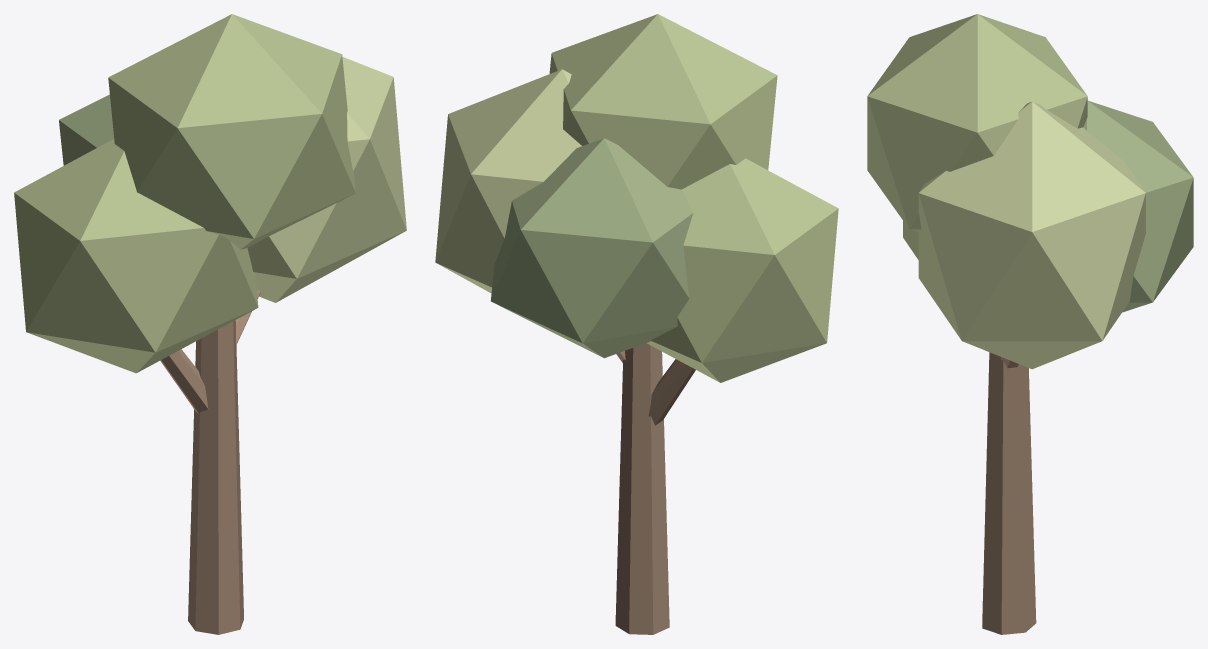
Rendered from garden_tree.fbx.
The picture shows the model from 3 angles, left to right: view 1: azimuth 30°, elevation 25°; view 2: azimuth 150°, elevation 25°; view 3: azimuth 270°, elevation 25°; orthographic projection. The views are drawn at different scales.
Visible parts, largest first — view 1: garden_tree_geometry.001, garden_tree_geometry; view 2: garden_tree_geometry.001, garden_tree_geometry; view 3: garden_tree_geometry.001, garden_tree_geometry.
Boxes of the visible parts, left/top/right/bottom form: garden_tree_geometry.001: left=14, top=14, right=406, bottom=373; garden_tree_geometry: left=160, top=289, right=260, bottom=634; garden_tree_geometry.001: left=435, top=14, right=838, bottom=382; garden_tree_geometry: left=615, top=343, right=695, bottom=634; garden_tree_geometry.001: left=867, top=14, right=1193, bottom=369; garden_tree_geometry: left=982, top=352, right=1036, bottom=634.
Bounding box in the file's own units: 2.13 × 3.32 × 1.61.
